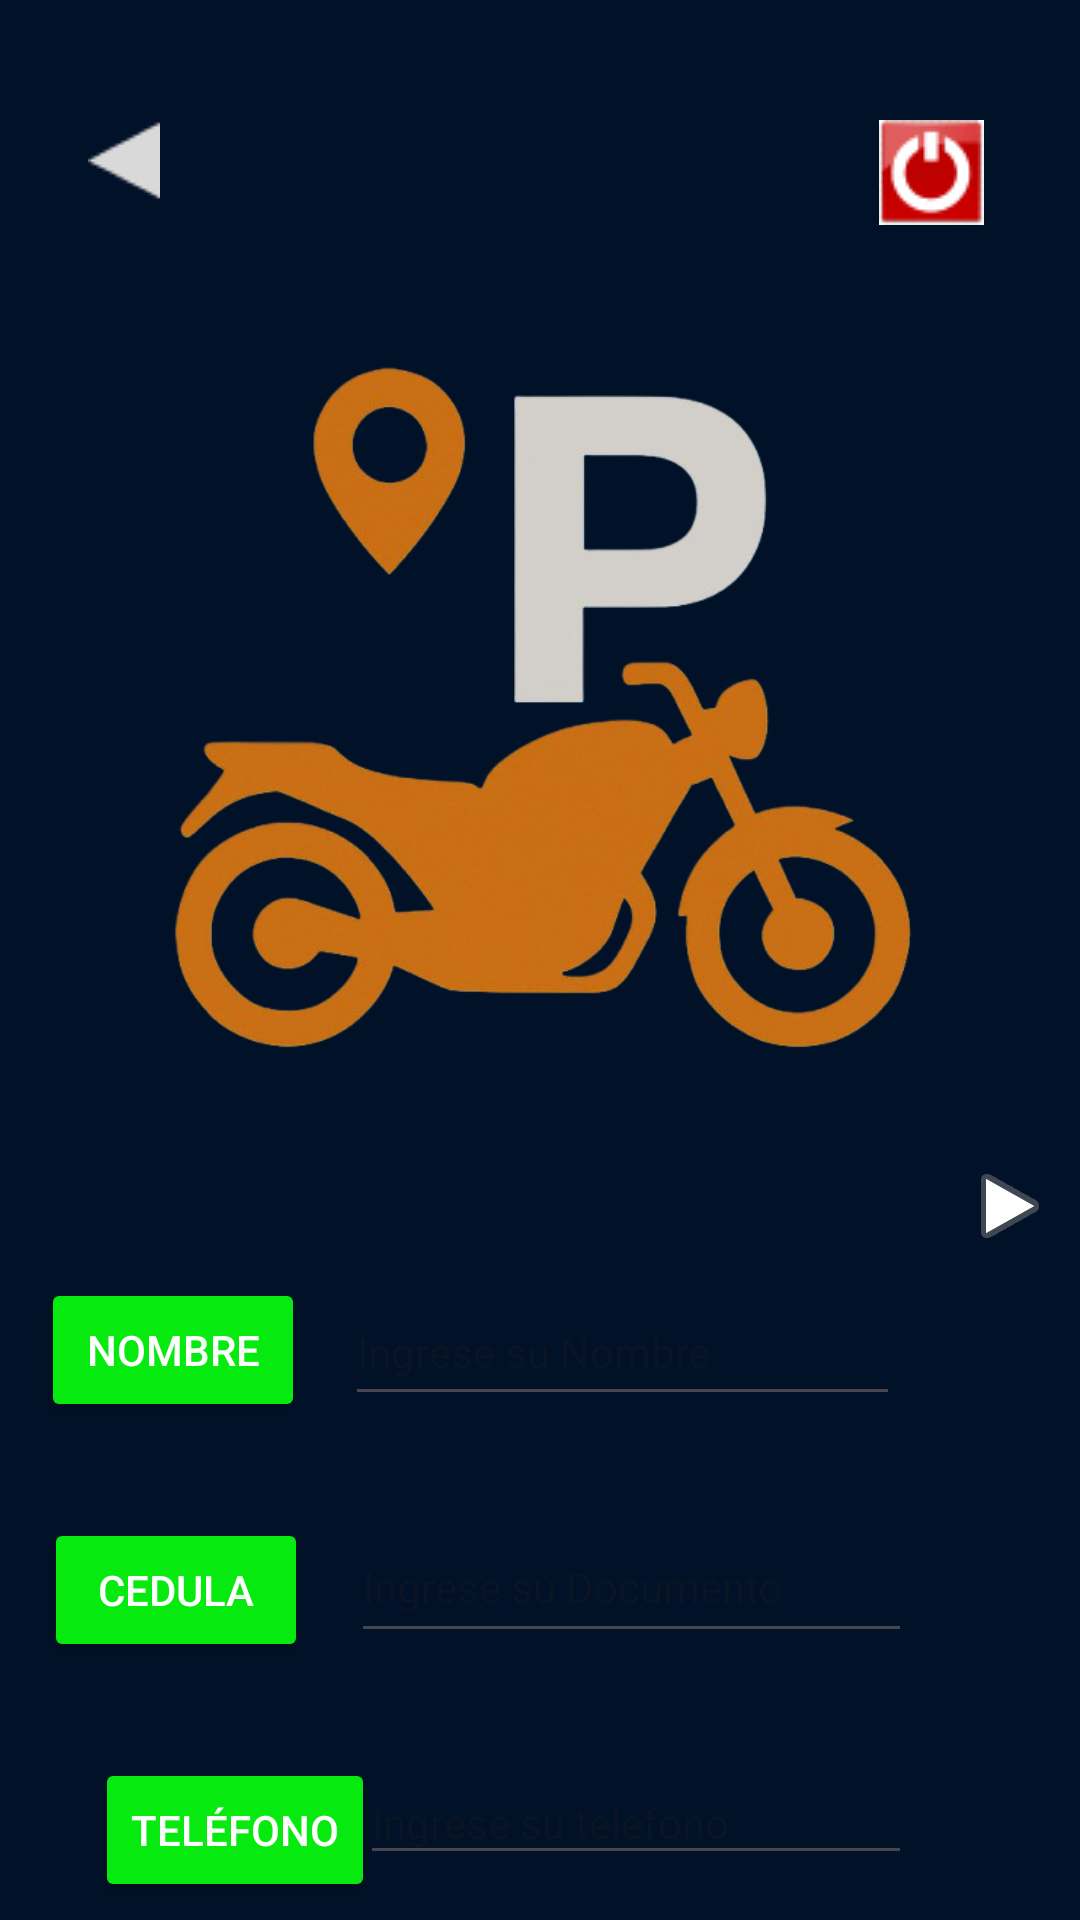

Named icons in this screenshot (1080px x 1920px) and their bounding boxes, [x1,y1,x2,y2]:
play: [981,1174,1039,1238]
